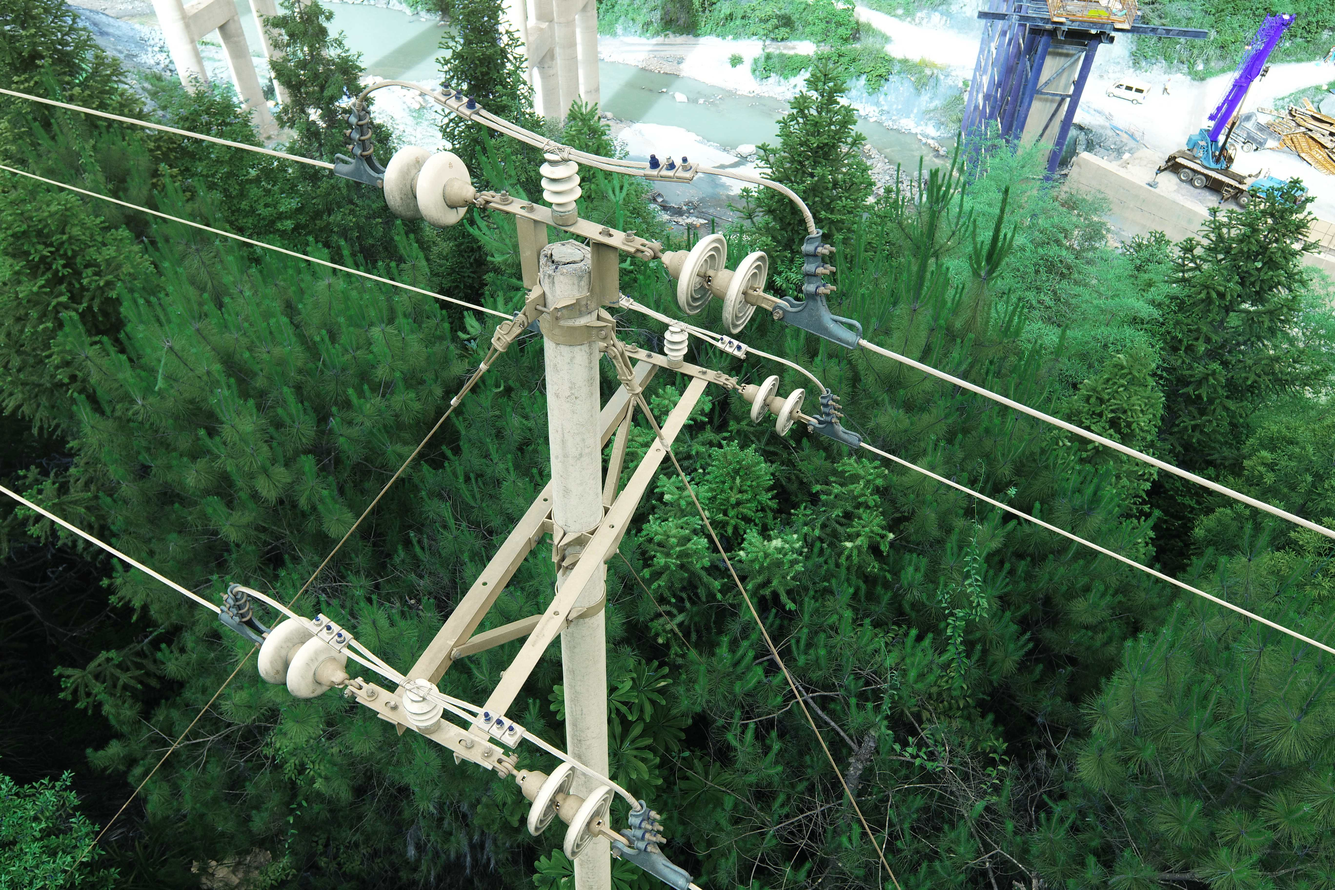severe_soiling_no_discharge_whole: (664, 231, 772, 334), (376, 144, 477, 229), (252, 615, 348, 701)
